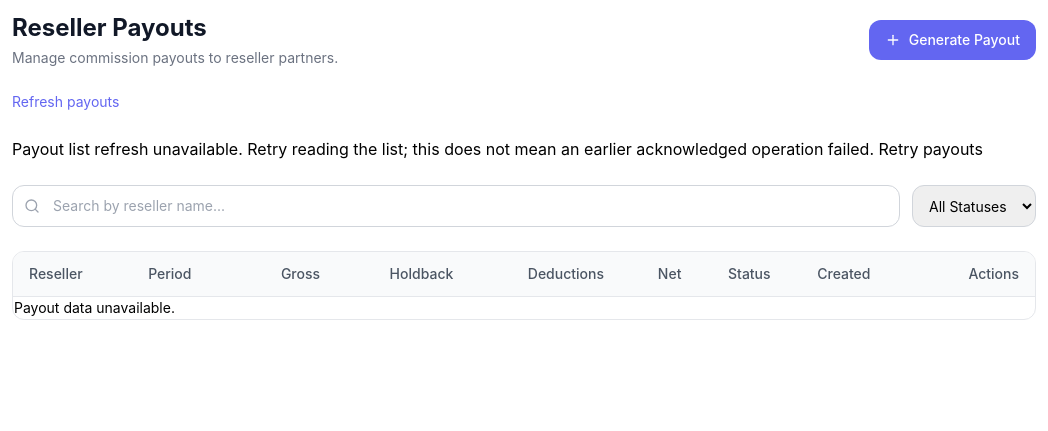
Test: Payout read truthfulness and current authorization › session-error read failure is unavailable and retry is read-only
The width and height of the screenshot is (1048, 431).
Expected: the message is shown, [12,137,1036,161]
Expected: the text "Total Payouts" is not shown
Click the button "Retry payouts": (931, 149) [878,137,983,161]
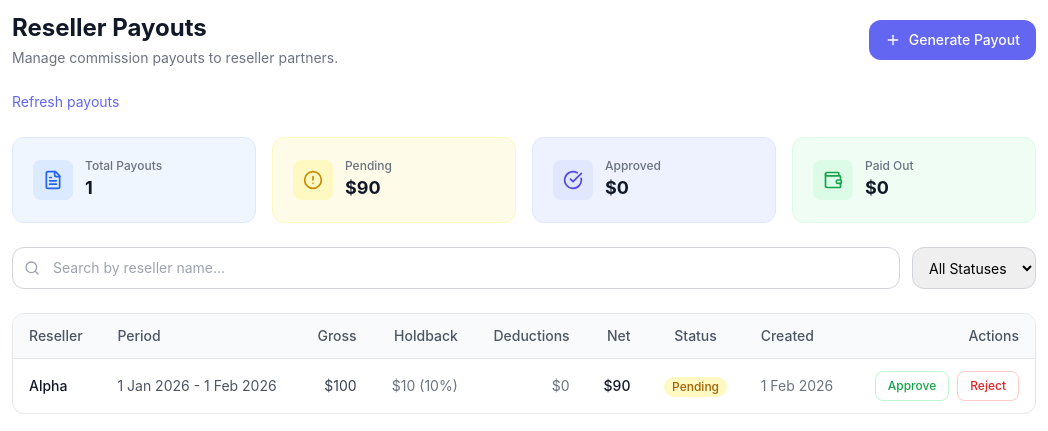
Result: the text "Alpha" is shown at [13,358,101,413]
